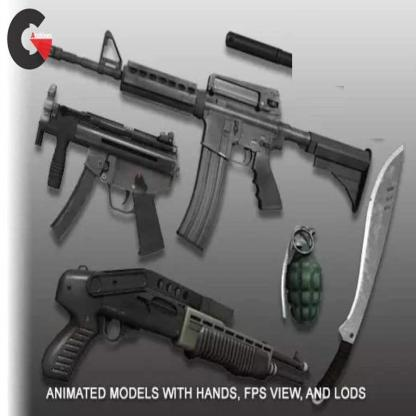Grenade: (279, 224, 324, 331)
Gun: (49, 30, 374, 252), (40, 263, 310, 387), (34, 82, 182, 260)
Knife: (309, 144, 404, 406)
